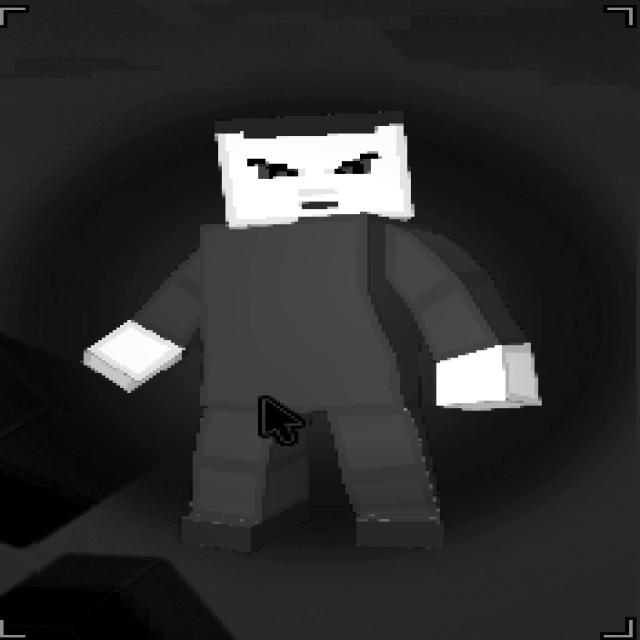Head: (211, 108, 414, 227)
Player: (80, 108, 542, 552)
